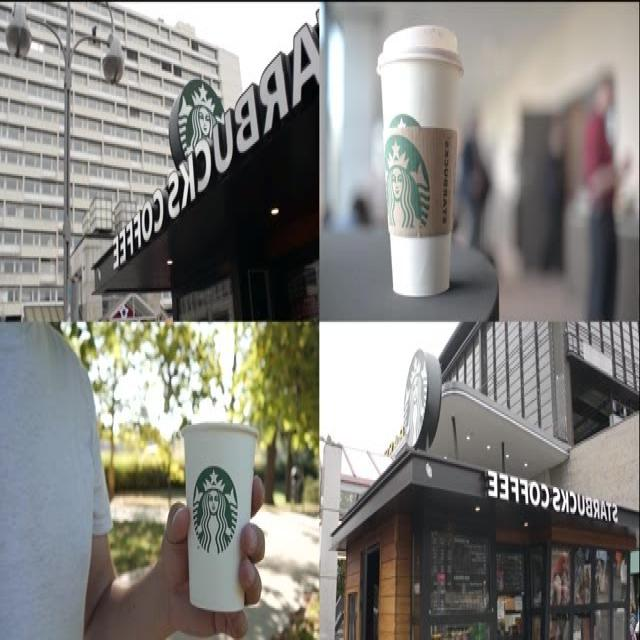starbucks: (384, 135, 437, 238), (191, 464, 239, 562)
